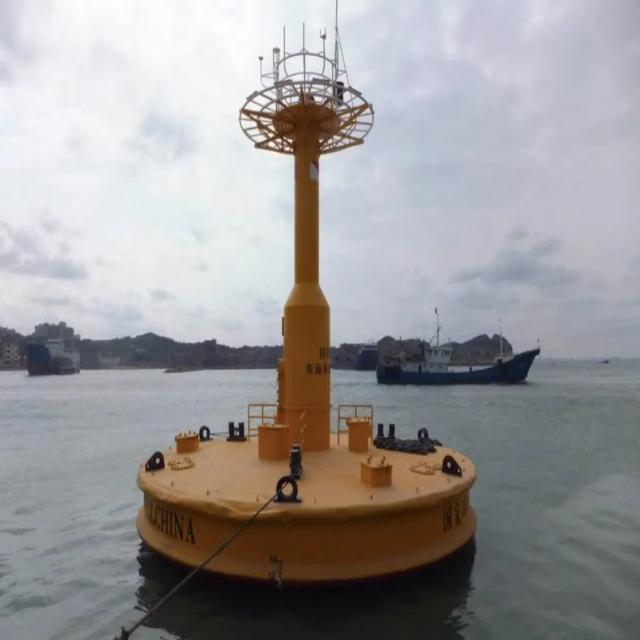buoy: (136, 12, 483, 587)
